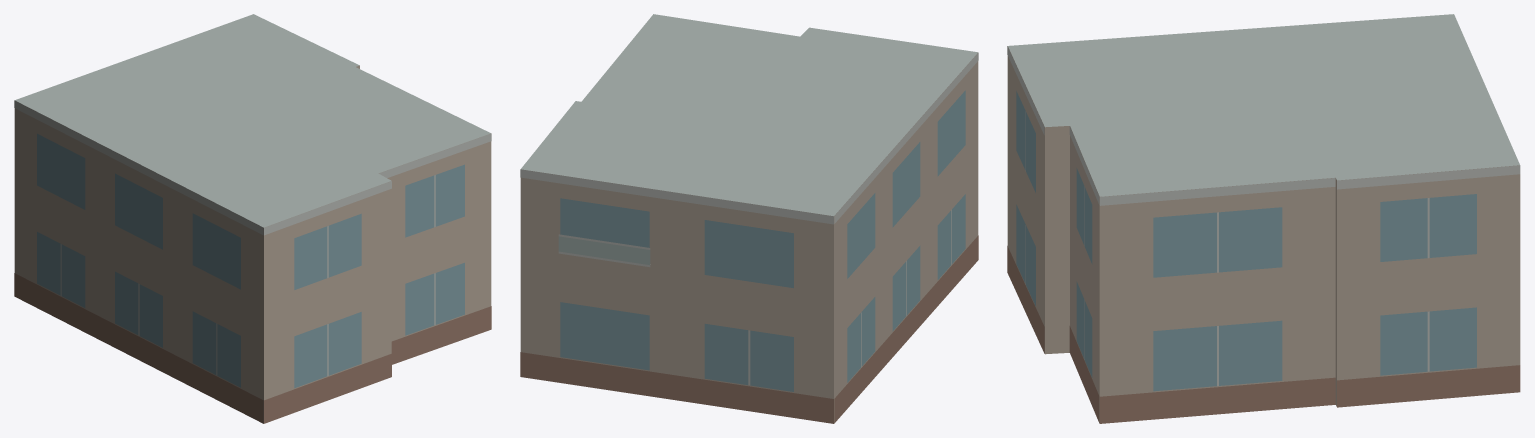
Rendered from survey-upis-32680463.glb.
The picture shows the model from 3 angles, left to right: view 1: azimuth 30°, elevation 25°; view 2: azimuth 150°, elevation 25°; view 3: azimuth 270°, elevation 25°; orthographic projection. The views are drawn at different scales.
Parts seen in each view (by area): view 1: survey-upis-32680463.tmp; view 2: survey-upis-32680463.tmp; view 3: survey-upis-32680463.tmp.
Boxes of the visible parts, x1,y1,x2,y2 form: survey-upis-32680463.tmp: (14, 14, 491, 423); survey-upis-32680463.tmp: (520, 14, 978, 423); survey-upis-32680463.tmp: (1007, 14, 1520, 423).
Bounding box in the file's own units: 10.54 × 6.1 × 12.49.
